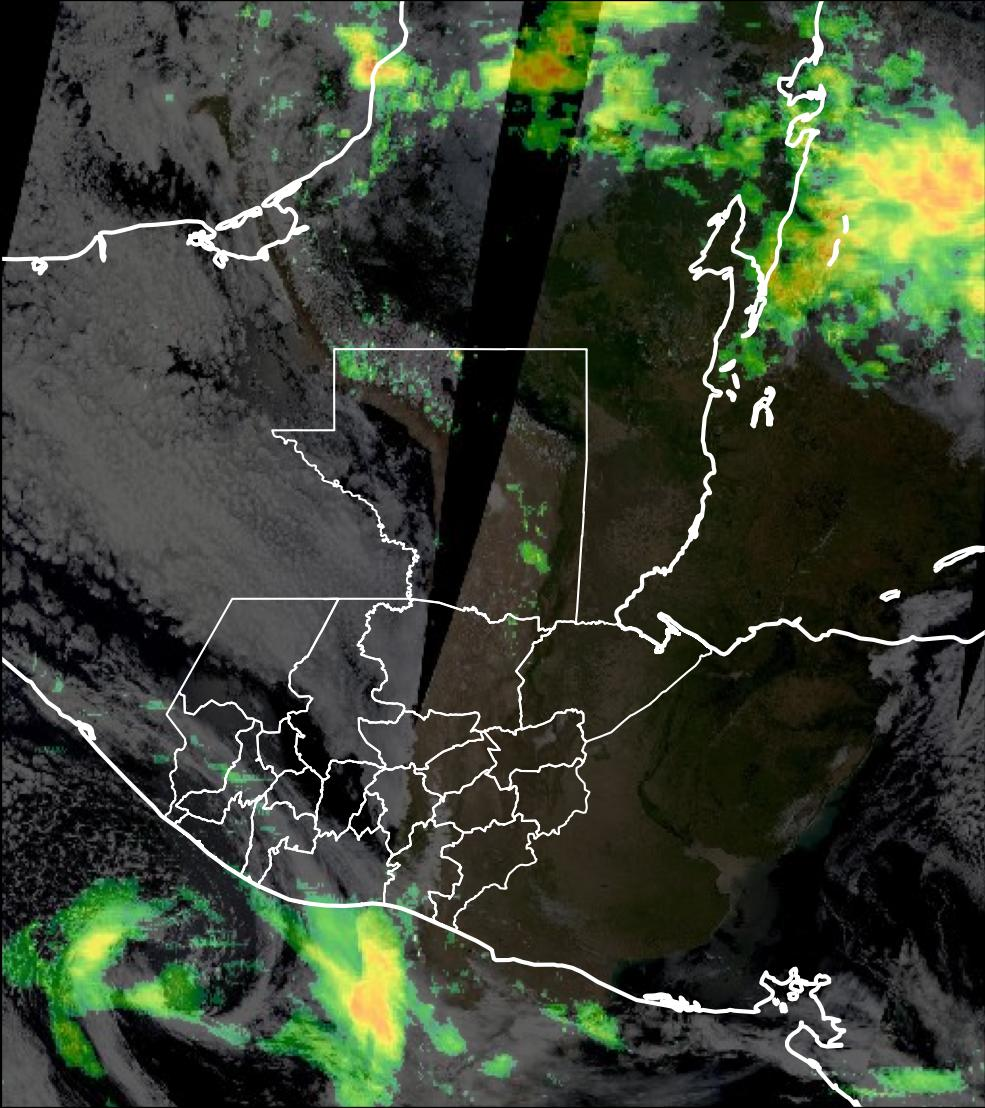precipitacion: (856, 141, 985, 254), (322, 939, 414, 1062)
